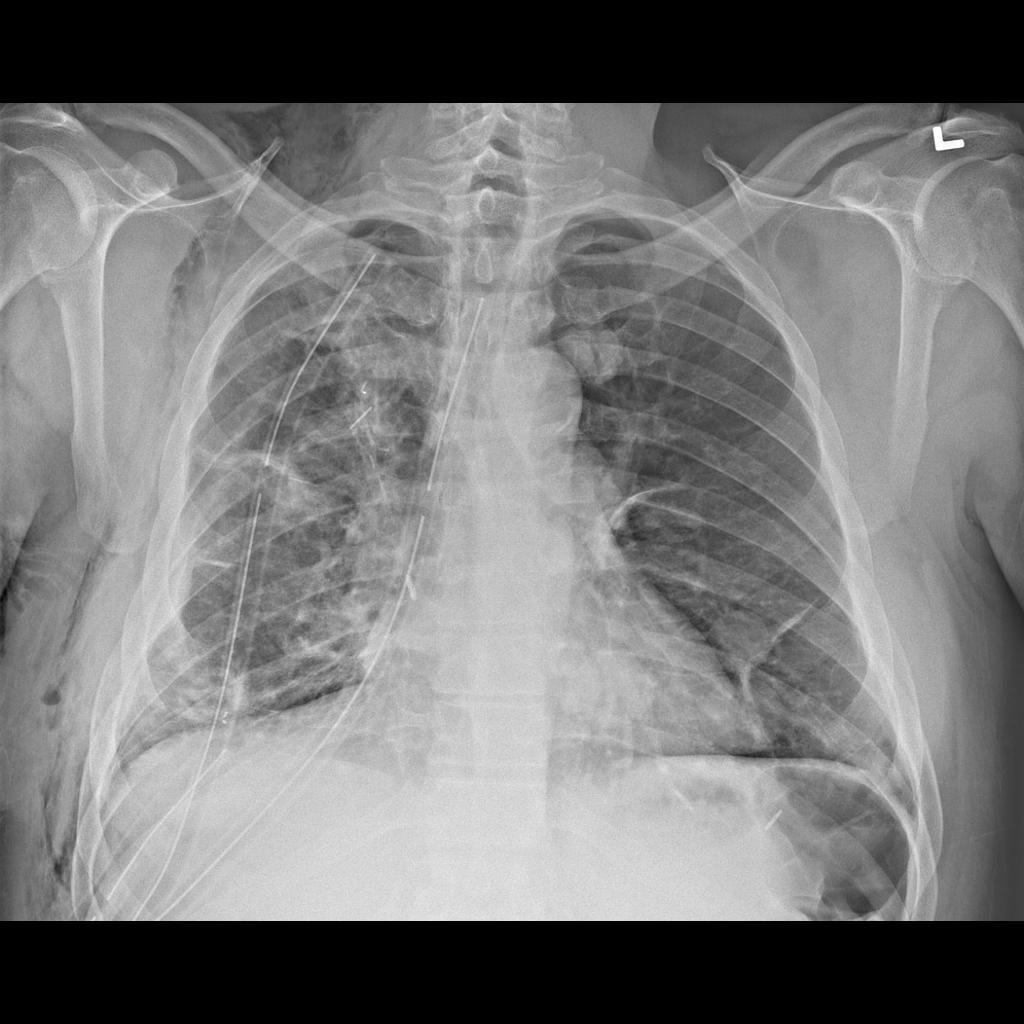Nodule: (544, 633, 663, 732), (539, 309, 638, 399), (706, 600, 794, 679)
